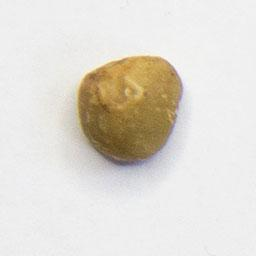defect: (75, 53, 185, 165)
